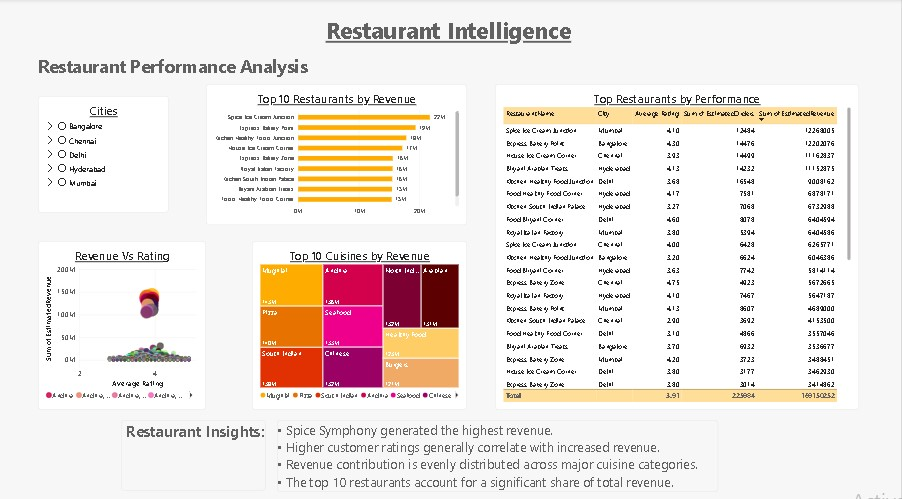

Layout of this report page (visuals, bound fields, positions):
{"tool":"powerbi","page":{"name":"Restaurant Intelligence","canvas":[1920,1080],"ordinal":1},"visuals":[{"type":"clusteredBarChart","title":"Top 10 Restaurants by Revenue","fields":{"Category":["Restaurants_Clean.RestaurantName"],"Y":["Sum(Restaurants_Clean.EstimatedRevenue)"]},"box":[441.8,180.4,555,300],"z":0},{"type":"scatterChart","title":"Revenue Vs Rating","fields":{"Series":["Restaurants_Clean.CuisineTypes"],"Size":["Sum(Restaurants_Clean.EstimatedOrders)"],"X":["Restaurants_Clean.Average Rating"],"Y":["Sum(Restaurants_Clean.EstimatedRevenue)"]},"box":[85,514.5,357.2,359.3],"z":1000},{"type":"treemap","title":"Top 10 Cuisines by Revenue","fields":{"Group":["Restaurants_Clean.CuisineTypes"],"Values":["Sum(Restaurants_Clean.EstimatedRevenue)"]},"box":[540,514.5,457.1,359.3],"z":2000},{"type":"tableEx","title":"Top Restaurants by Performance","fields":{"Values":["Restaurants_Clean.RestaurantName","Restaurants_Clean.City","Restaurants_Clean.Average Rating","Sum(Restaurants_Clean.EstimatedOrders)","Sum(Restaurants_Clean.EstimatedRevenue)"]},"box":[1056.6,180.7,773.9,693.1],"z":3000},{"type":"listSlicer","title":"Cities ","fields":{"Values":["Restaurants_Clean.City","Restaurants_Clean.CuisineTypes","Restaurants_Clean.DeliveryPartner"]},"box":[84.3,205.4,277.5,247.5],"z":4000},{"type":"textbox","box":[85,35,1745,145],"z":5000},{"type":"textbox","box":[592.5,895,937.5,152.5],"z":6000},{"type":"textbox","box":[262.5,895,307.5,150],"z":7000}]}

Visuals, with their boxes in screenshot pixels (x1, y1, x2, y2), scaled from the page's 1920x1080 canvas onto the 902x499 screenshot:
"Top 10 Restaurants by Revenue" clusteredBarChart: 208:83:468:222
"Revenue Vs Rating" scatterChart: 40:238:208:404
"Top 10 Cuisines by Revenue" treemap: 254:238:468:404
"Top Restaurants by Performance" tableEx: 496:83:860:404
"Cities " listSlicer: 40:95:170:209
textbox: 40:16:860:83
textbox: 278:414:719:484
textbox: 123:414:268:483
